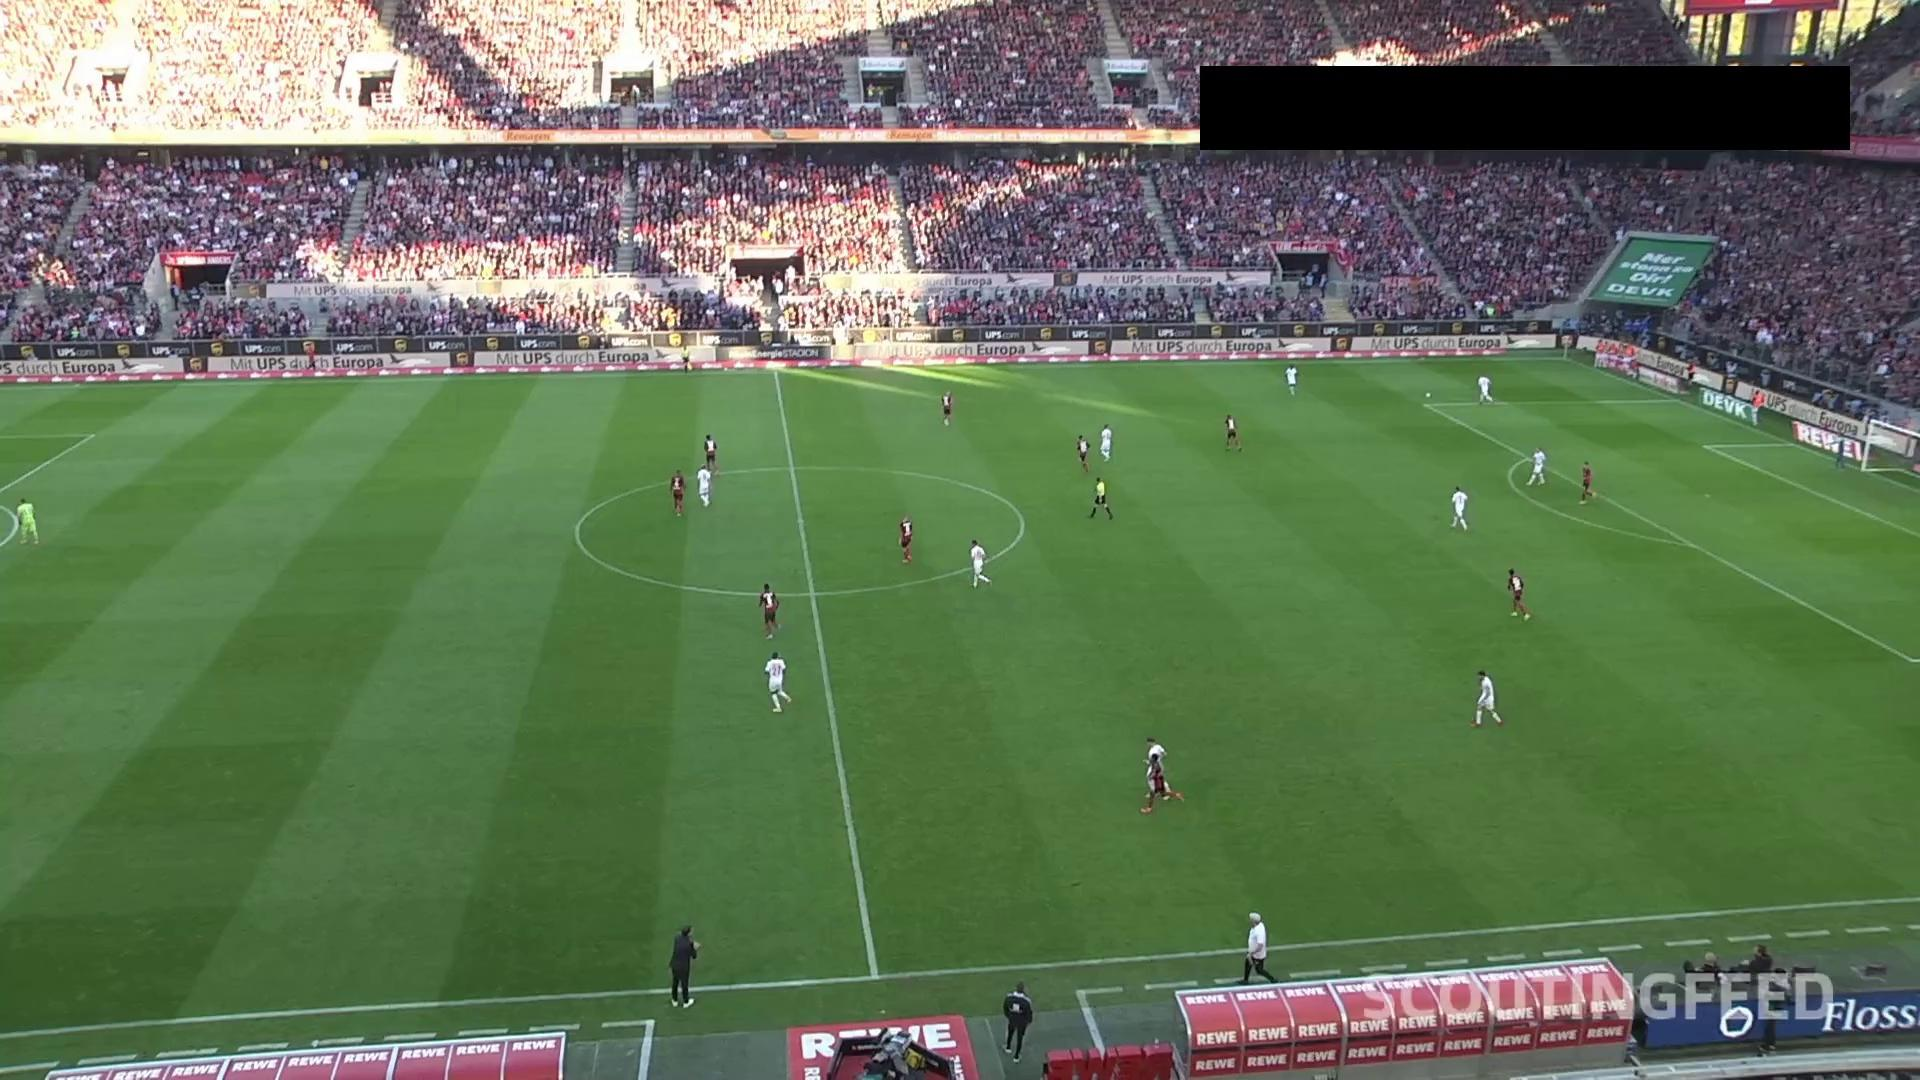Location-of-ball: (1420, 388, 1435, 405)
